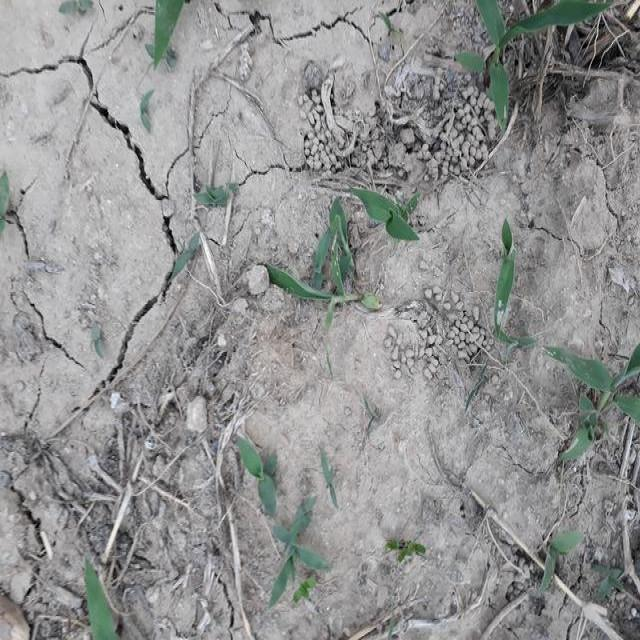weed: (276, 163, 416, 324), (229, 420, 320, 603), (451, 0, 542, 135), (547, 343, 640, 421), (482, 211, 522, 317), (80, 564, 126, 640), (145, 0, 184, 69), (544, 527, 584, 591), (487, 316, 534, 357), (585, 562, 628, 603), (318, 452, 342, 510), (198, 171, 228, 213), (468, 368, 502, 404), (170, 231, 198, 271), (362, 402, 387, 443), (386, 540, 426, 565), (137, 87, 156, 136), (86, 324, 110, 362), (54, 0, 96, 21), (0, 168, 14, 227)
